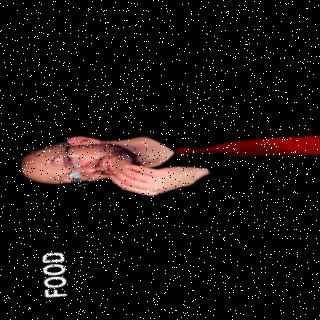Food: (7, 100, 318, 204)
